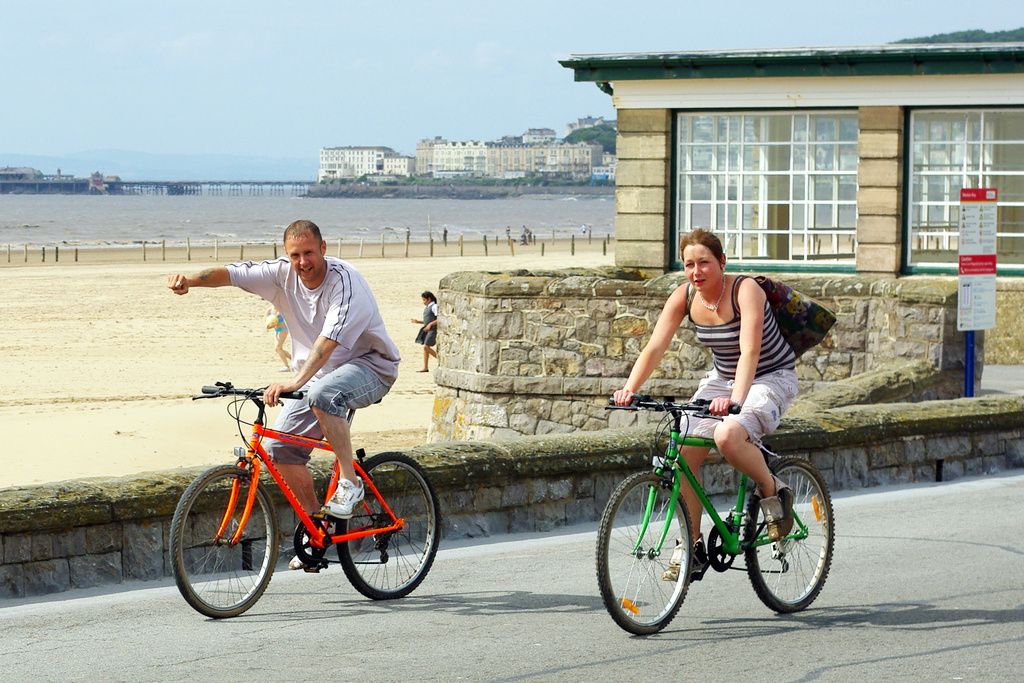Bike_toward: (168, 327, 466, 632)
